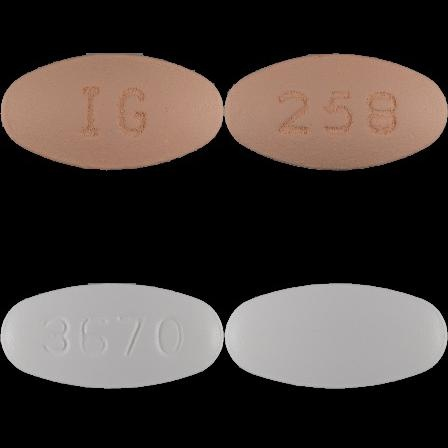35356-686: (0, 0, 224, 224)
